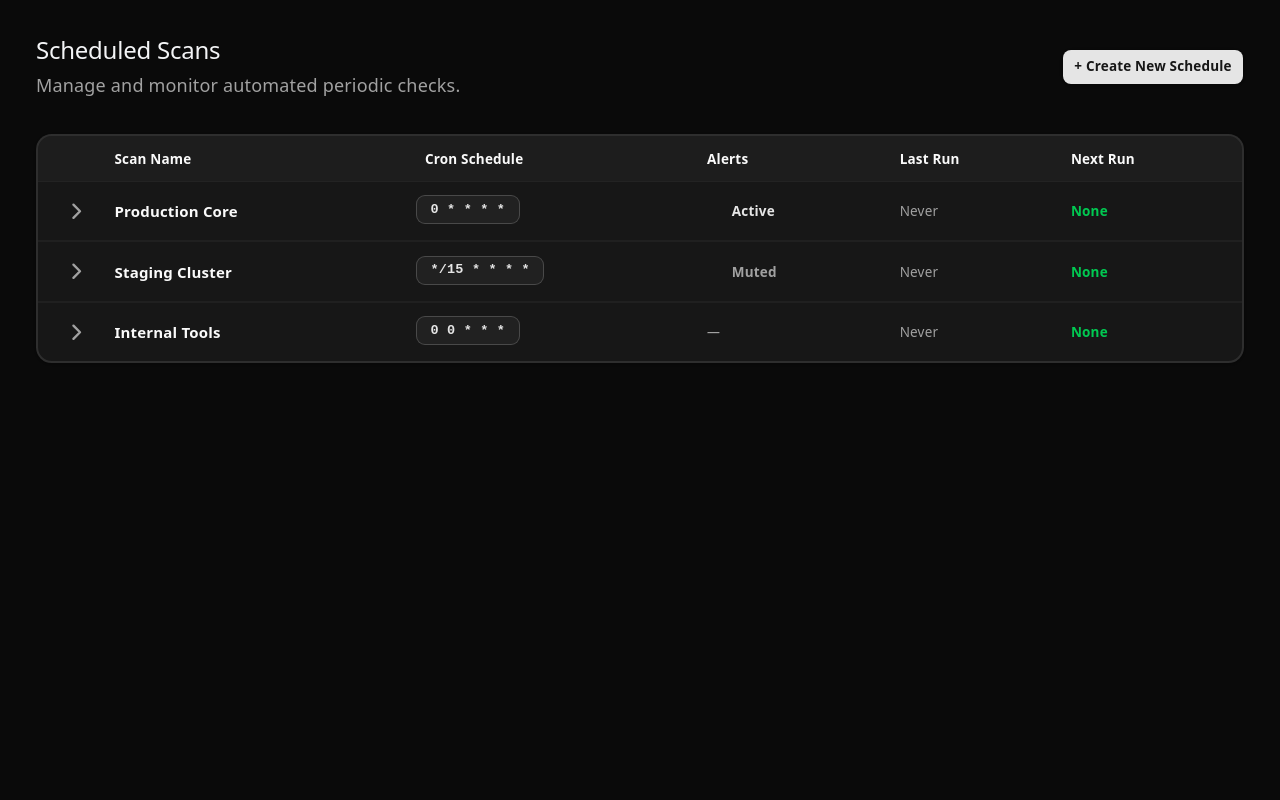
it: ScheduledScansPage Alert Stopper Controls › renders stopper button between Edit Schedule and Delete and toggles mute state in-place
This screenshot has width=1280, height=800.
# Click on scan row to expand
Click the text "Production Core" at point(176, 211), box left=106, top=181, right=416, bottom=241
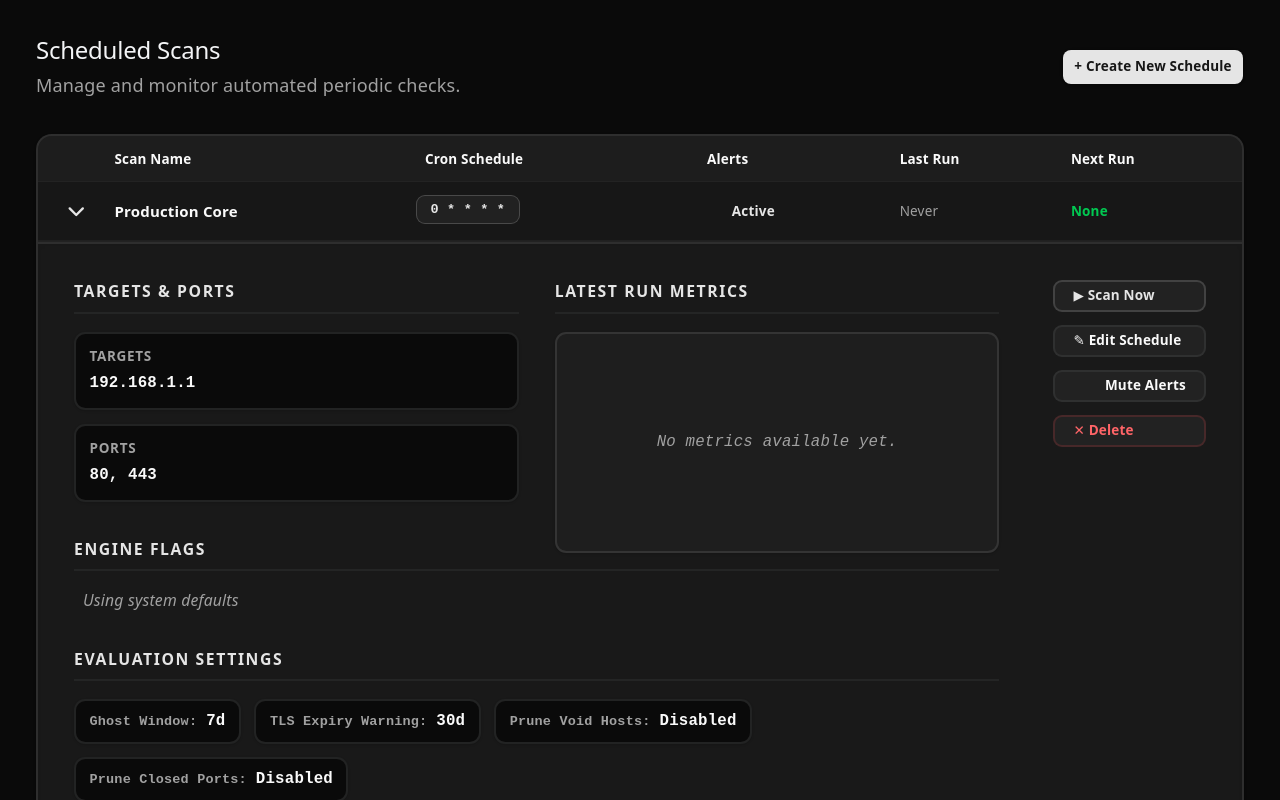
Check: the button "Mute Alerts" is shown
# Click stopper button
Click the button "Mute Alerts" at point(1130, 386), box left=1054, top=370, right=1206, bottom=402
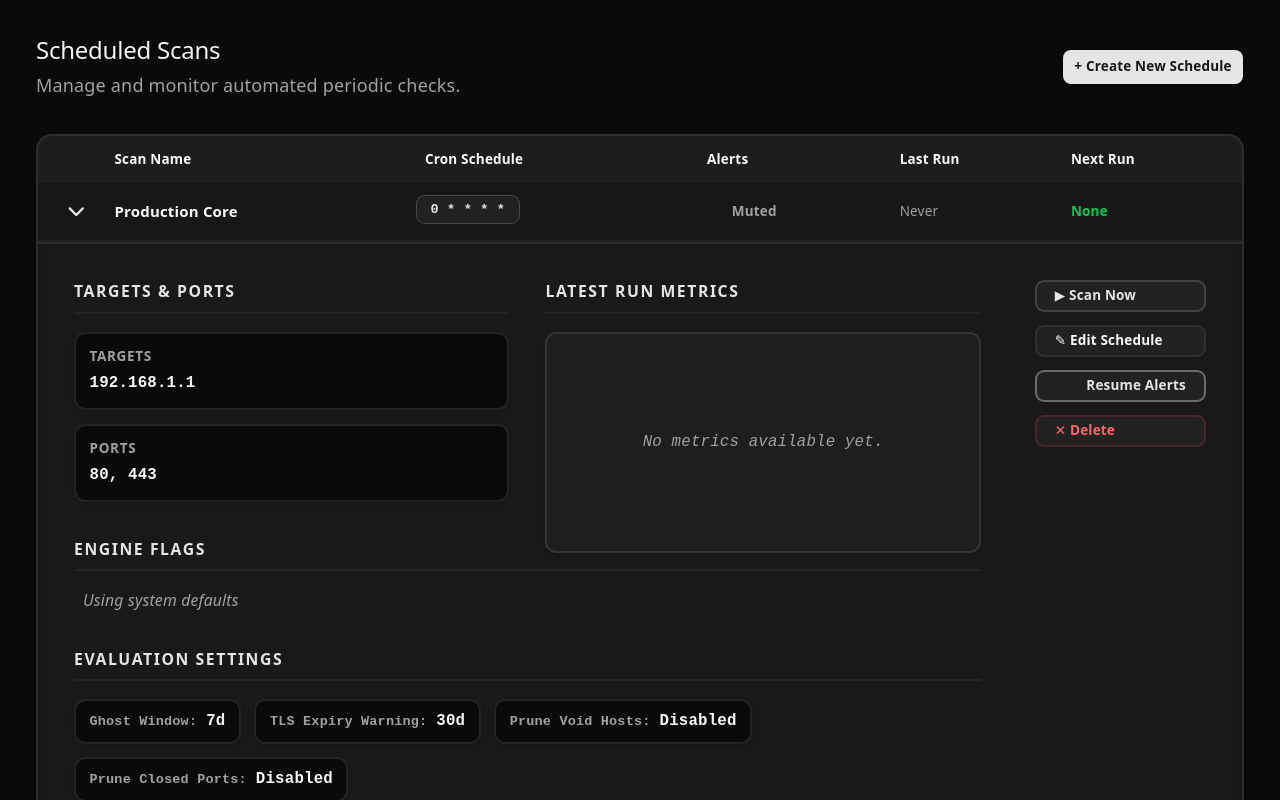
Check: the button "Resume Alerts" is shown, box left=1035, top=370, right=1206, bottom=402
Check: the element with test id "alert-status-scan-active-alerts" reads "Muted", box left=732, top=202, right=777, bottom=220
